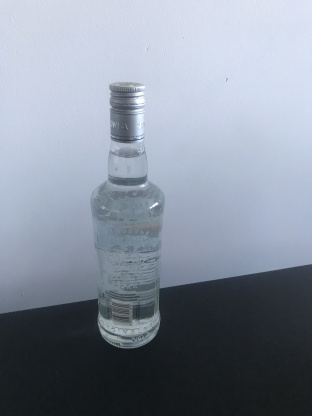nakretka: (107, 80, 147, 144)
